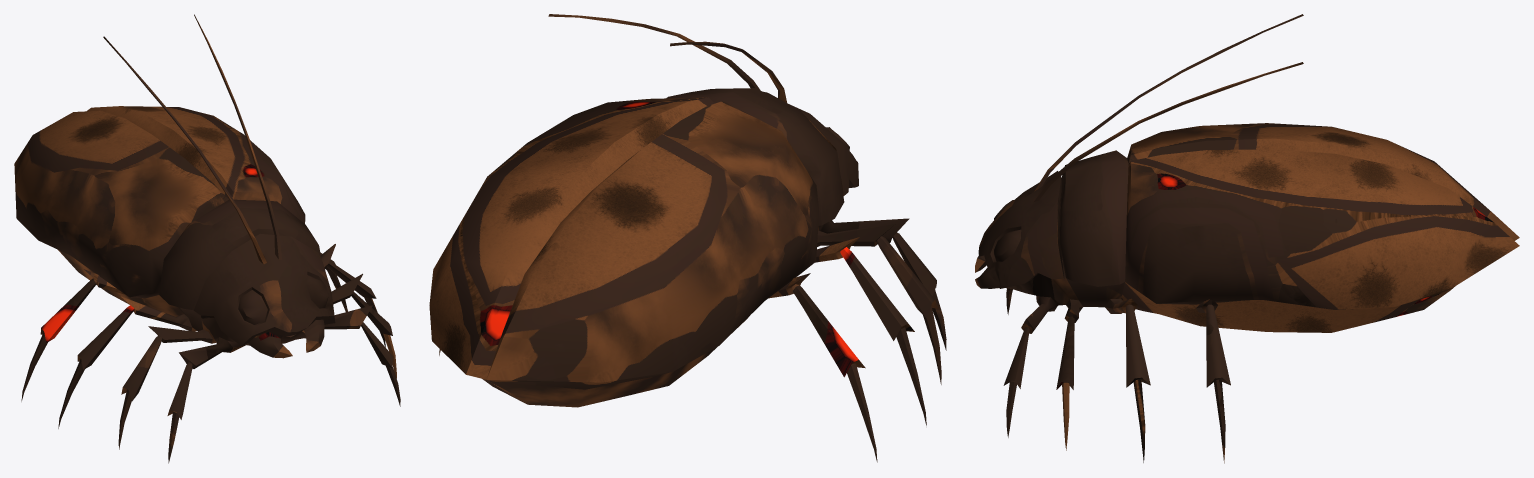
The model's file is Cockroach_Smol_2.fbx.
The picture shows the model from 3 angles, left to right: view 1: azimuth 30°, elevation 25°; view 2: azimuth 150°, elevation 25°; view 3: azimuth 270°, elevation 25°; orthographic projection. The views are drawn at different scales.
Parts seen in each view (by area): view 1: Cockroach_Smol_2; view 2: Cockroach_Smol_2; view 3: Cockroach_Smol_2.
Boxes of the visible parts, x1,y1,x2,y2 form: Cockroach_Smol_2: (14, 14, 400, 463); Cockroach_Smol_2: (429, 14, 946, 462); Cockroach_Smol_2: (975, 14, 1519, 463).
Bounding box in the file's own units: 46.13 × 42 × 61.07.
